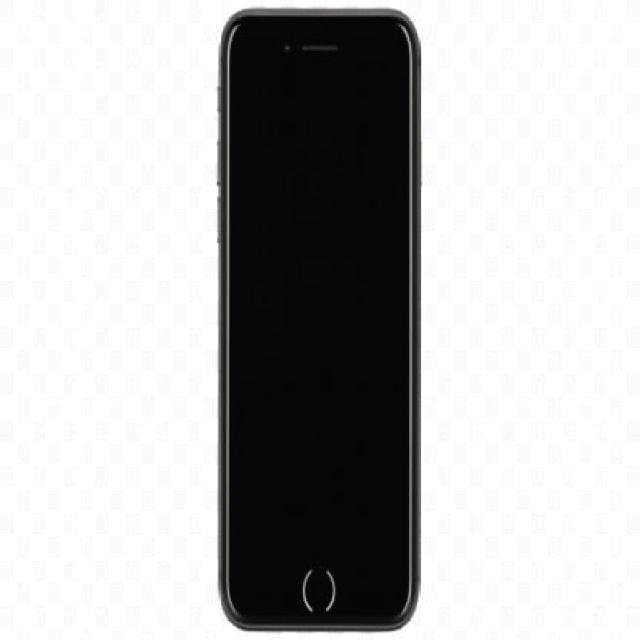phone: (218, 3, 419, 632)
